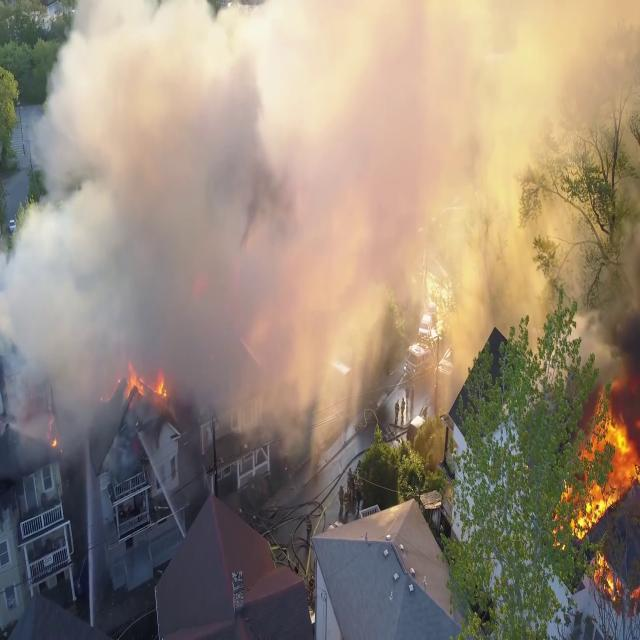fire: (572, 368, 640, 548)
smoke: (38, 97, 306, 380)
